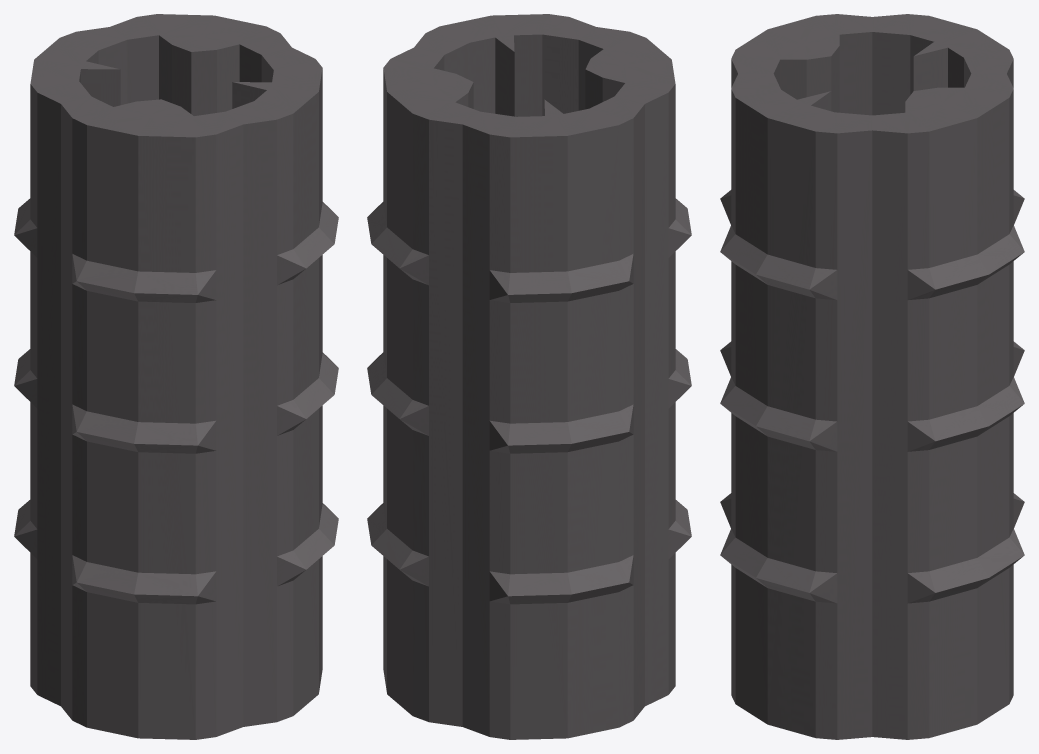
Rendered from cross_axle_3M_ribs.dae.
The picture shows the model from 3 angles, left to right: view 1: azimuth 30°, elevation 25°; view 2: azimuth 150°, elevation 25°; view 3: azimuth 270°, elevation 25°; orthographic projection.
Visible parts, largest first — view 1: node; view 2: node; view 3: node.
Boxes of the visible parts, box(x1,y1,x2,y2) form: node: box(14, 14, 338, 739); node: box(367, 14, 691, 739); node: box(720, 14, 1024, 739).
Bounding box in the file's own units: 17.98 × 39.5 × 17.98.
1 material, 1 textured.
